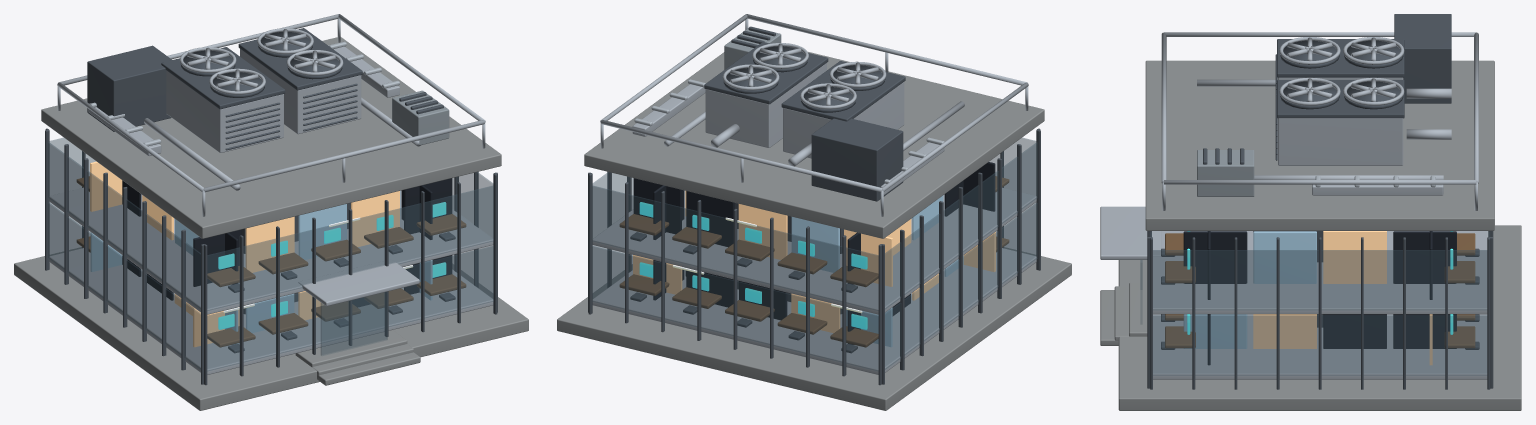
Rendered from soc.glb.
3 views of the same model, side by side, from view 1: azimuth 30°, elevation 25°; view 2: azimuth 150°, elevation 25°; view 3: azimuth 270°, elevation 25° (orthographic). The views are drawn at different scales.
Visible parts, largest first — view 1: body_concrete.047, body_glass.041, body_steel.142, body_dark.133, body_steel.143, body_window.018, body_wood.018, body_window_dark.011, body_window_cool.011, body_dark.134, body_ceramic.023, body_blue.015 (+1 smaller); view 2: body_glass.041, body_concrete.047, body_steel.142, body_dark.133, body_steel.143, body_window_dark.011, body_wood.018, body_window.018, body_window_cool.011, body_dark.134, body_blue.015, body_ceramic.023 (+1 smaller); view 3: body_concrete.047, body_glass.041, body_steel.142, body_dark.133, body_steel.143, body_window_dark.011, body_window.018, body_window_cool.011, body_wood.018, body_dark.134, body_ceramic.023.
Part boxes in pixels (x1,y1,x2,y2): body_concrete.047: (14, 37, 528, 410); body_glass.041: (48, 137, 493, 371); body_steel.142: (49, 43, 493, 374); body_dark.133: (45, 28, 497, 385); body_steel.143: (57, 14, 485, 216); body_window.018: (90, 161, 399, 347); body_wood.018: (76, 176, 466, 347); body_window_dark.011: (122, 178, 452, 307); body_window_cool.011: (90, 191, 432, 344); body_dark.134: (180, 32, 342, 97); body_ceramic.023: (392, 90, 449, 145); body_blue.015: (218, 202, 446, 329); body_glass.041: (592, 137, 1037, 371); body_concrete.047: (557, 52, 1071, 410); body_steel.142: (592, 63, 1036, 374); body_dark.133: (588, 26, 1040, 385); body_steel.143: (600, 14, 1028, 216); body_window_dark.011: (633, 162, 995, 344); body_wood.018: (619, 176, 1009, 347); body_window.018: (633, 190, 995, 333); body_window_cool.011: (791, 195, 963, 347); body_dark.134: (723, 46, 885, 112); body_blue.015: (639, 202, 867, 329); body_ceramic.023: (724, 27, 781, 69); body_concrete.047: (1100, 60, 1521, 410); body_glass.041: (1140, 232, 1489, 375); body_steel.142: (1100, 77, 1488, 379); body_dark.133: (1147, 14, 1493, 389); body_steel.143: (1161, 32, 1478, 210); body_window_dark.011: (1183, 231, 1456, 365); body_window.018: (1253, 231, 1432, 365); body_window_cool.011: (1183, 231, 1316, 348); body_wood.018: (1165, 233, 1475, 348); body_dark.134: (1280, 40, 1403, 109); body_ceramic.023: (1197, 150, 1254, 196).
Bounding box in the file's own units: 2 × 1.38 × 2.05.
